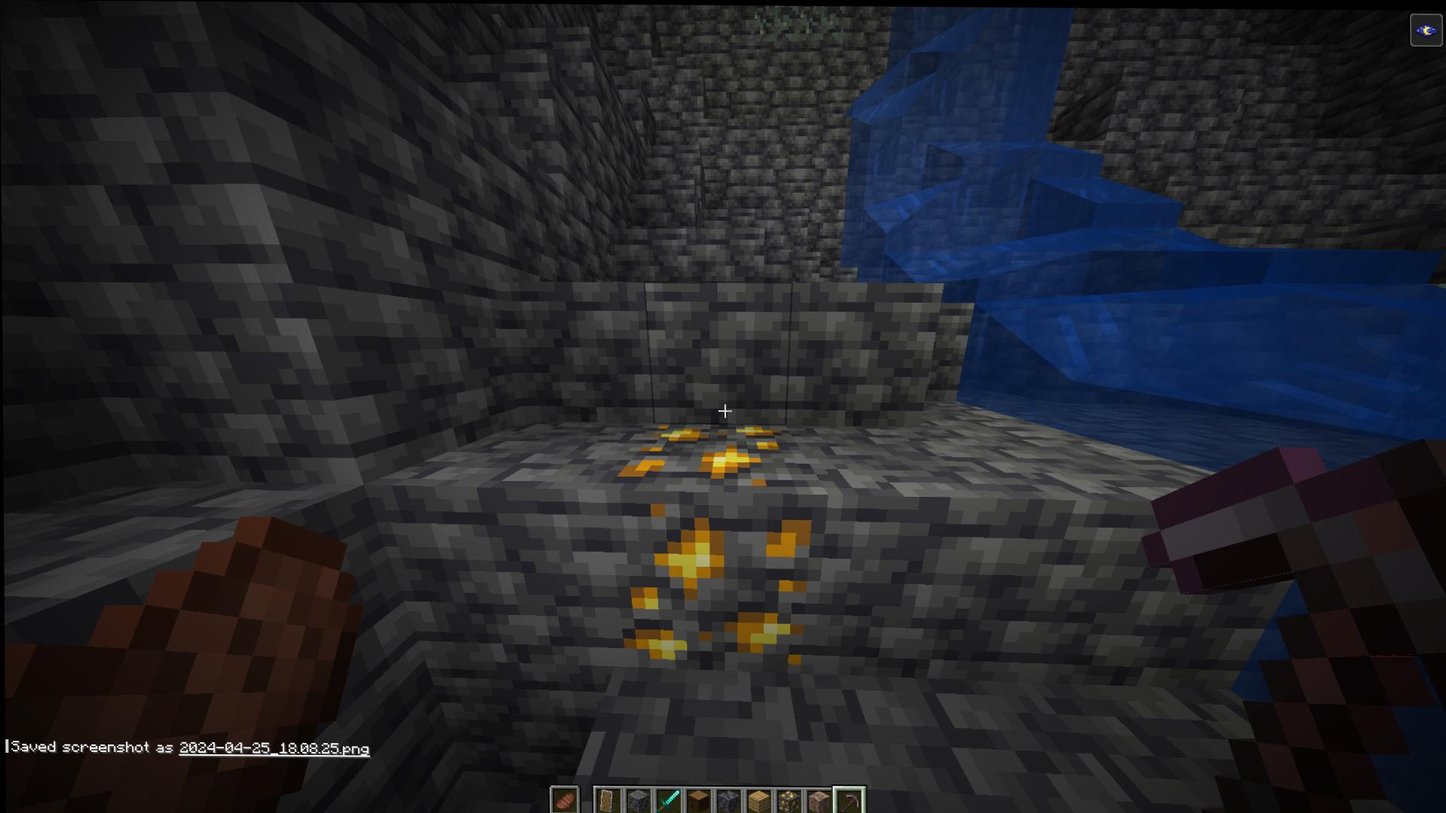gold ore: (614, 490, 813, 668), (621, 417, 798, 485)
